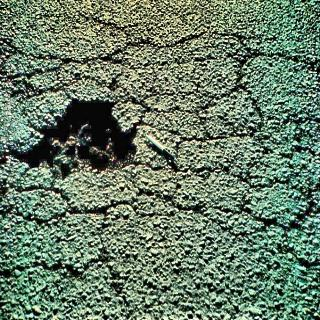alligator-crack: (146, 12, 320, 243), (0, 191, 146, 320), (0, 0, 144, 79)
pothole: (12, 91, 141, 182)
